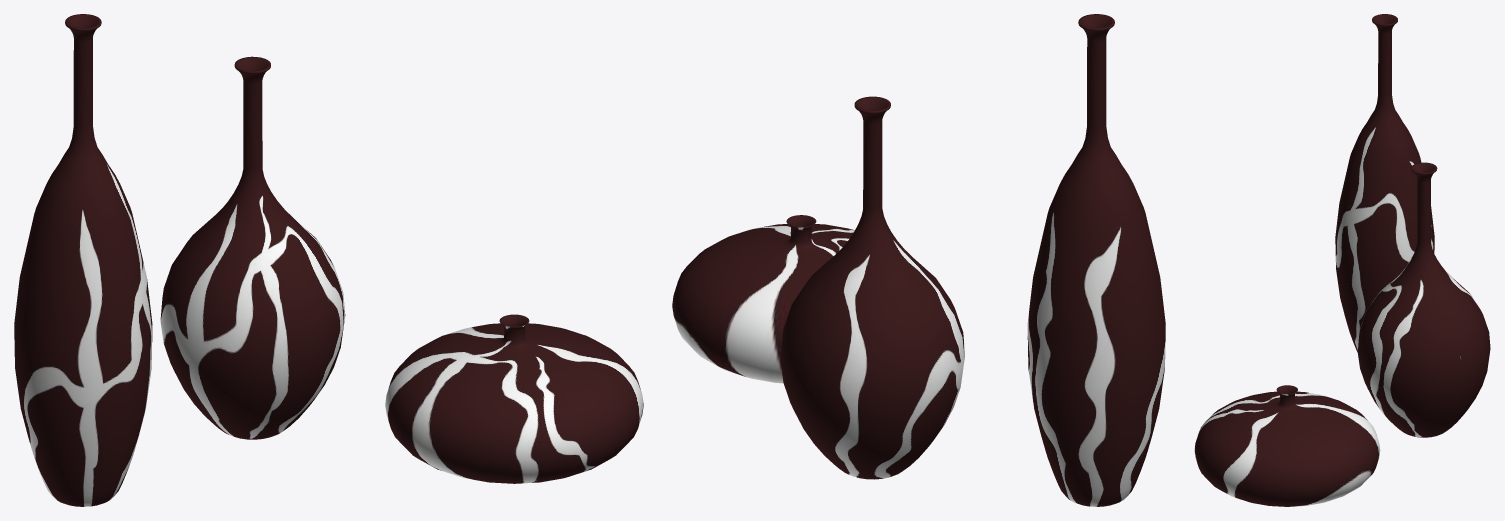
Rendered from complements3.glb.
The picture shows the model from 3 angles, left to right: view 1: azimuth 30°, elevation 25°; view 2: azimuth 150°, elevation 25°; view 3: azimuth 270°, elevation 25°; orthographic projection. The views are drawn at different scales.
Parts seen in each view (by area): view 1: vase1_Mesh.003, vase2_Mesh.002, vase3_Mesh; view 2: vase1_Mesh.003, vase2_Mesh.002, vase3_Mesh; view 3: vase2_Mesh.002, vase3_Mesh, vase1_Mesh.003.
Boxes of the visible parts, x1,y1,x2,y2 form: vase1_Mesh.003: (14,14,152,506); vase2_Mesh.002: (160,56,345,439); vase3_Mesh: (385,314,643,483); vase1_Mesh.003: (1027,14,1165,506); vase2_Mesh.002: (780,96,964,479); vase3_Mesh: (672,215,854,383); vase2_Mesh.002: (1357,162,1490,437); vase3_Mesh: (1194,385,1380,506); vase1_Mesh.003: (1335,14,1434,351).
Bounding box in the file's own units: 7.85 × 6.64 × 5.23.
1 material, 1 textured.
